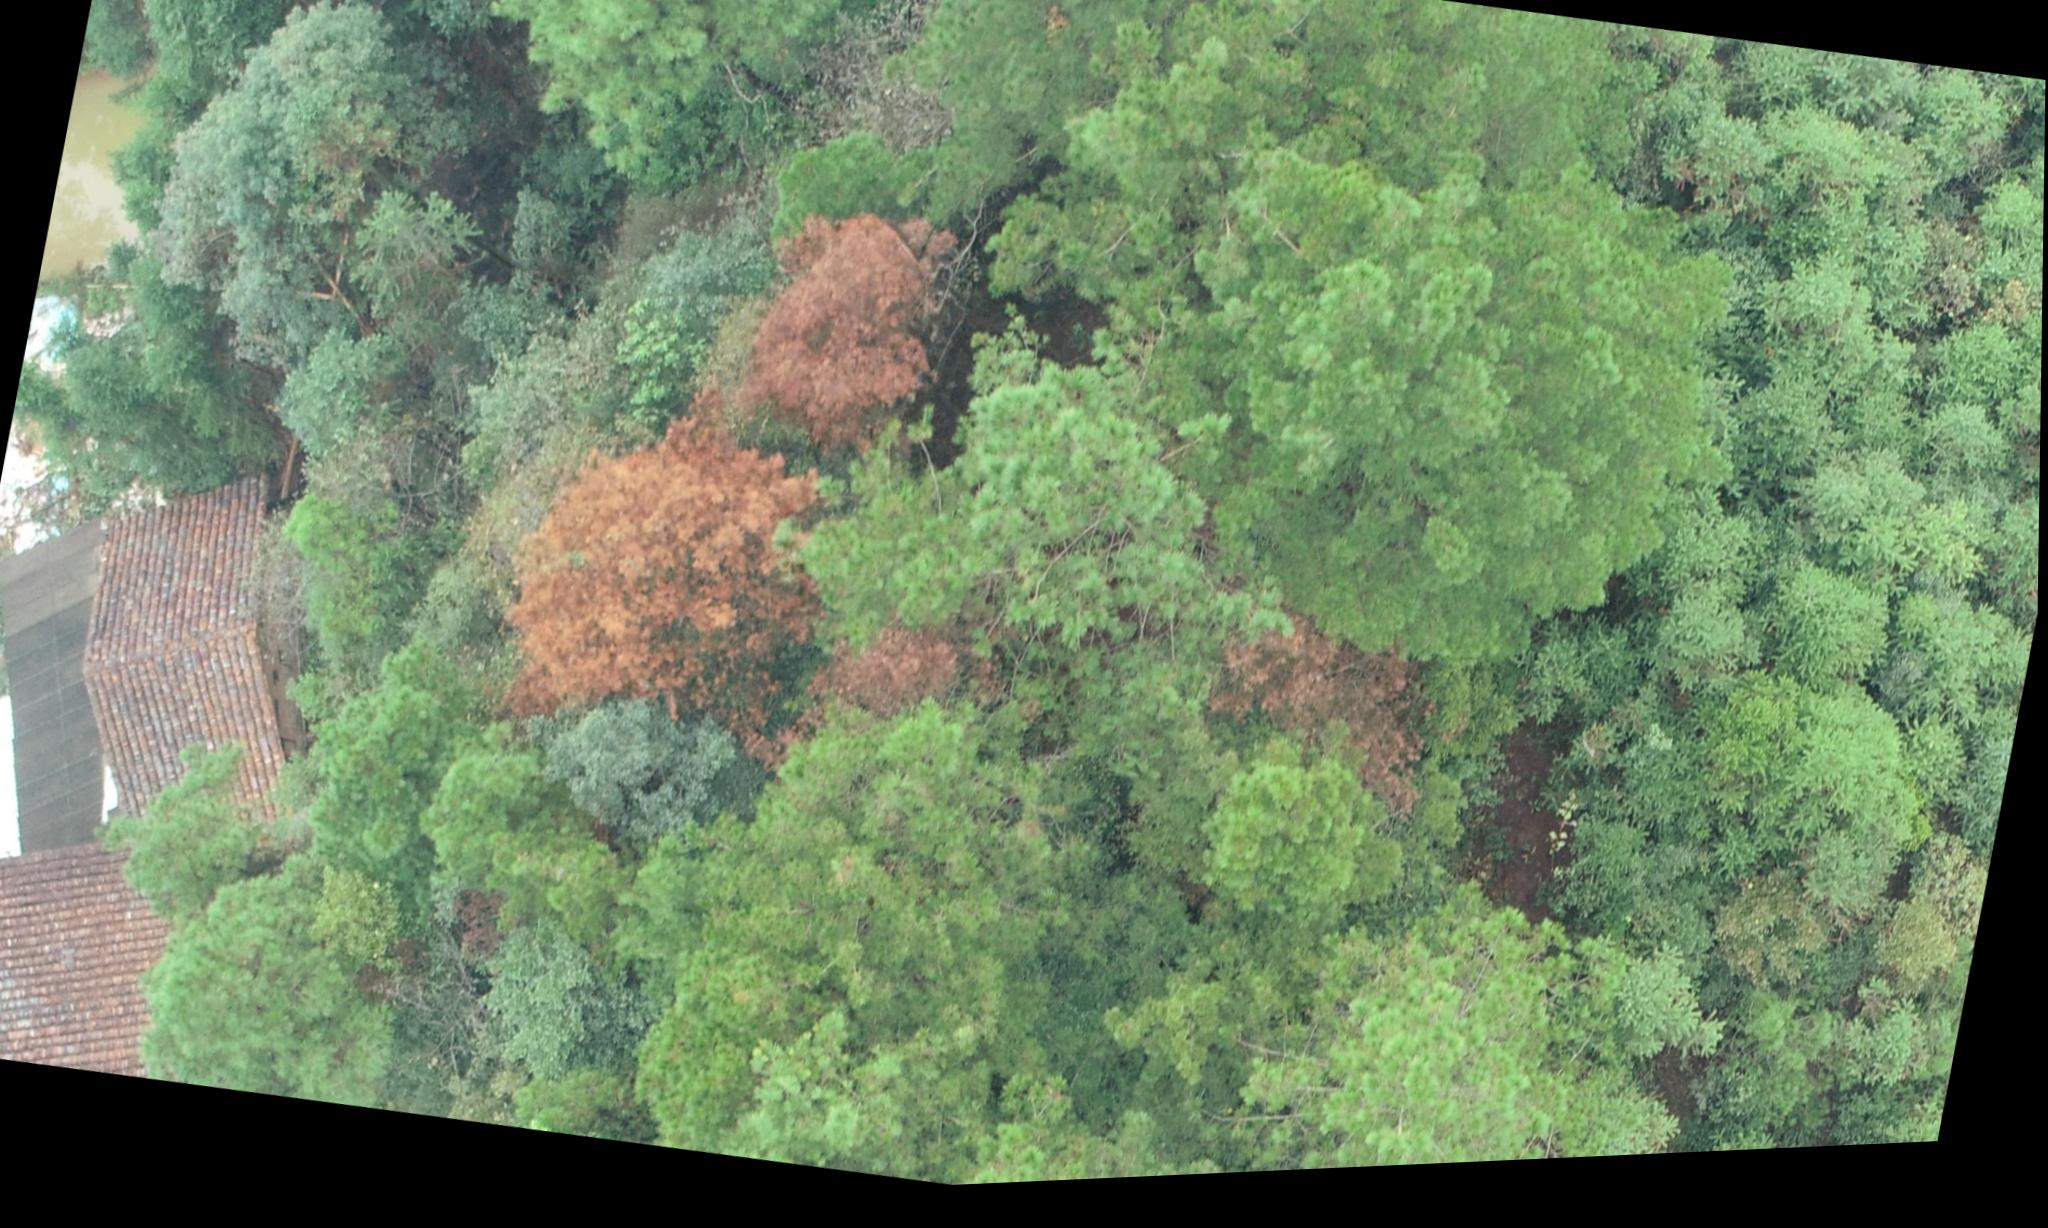heavy: (488, 403, 836, 751), (1200, 599, 1453, 836), (744, 208, 953, 450)
